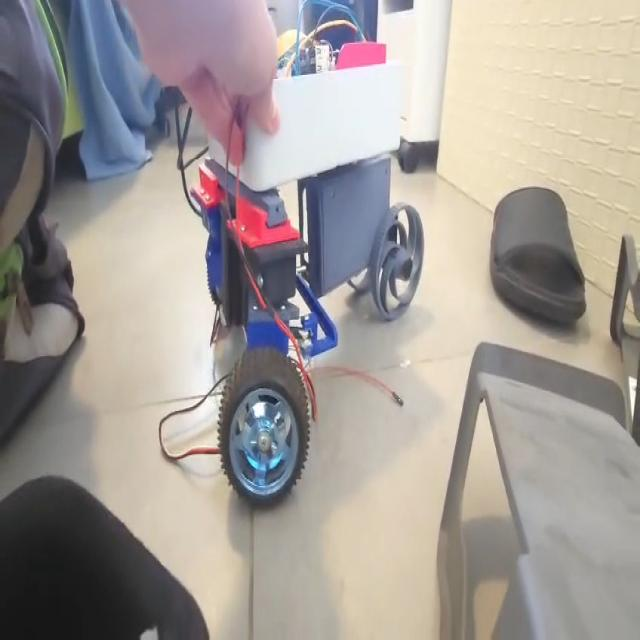Robot: (189, 32, 423, 508)
